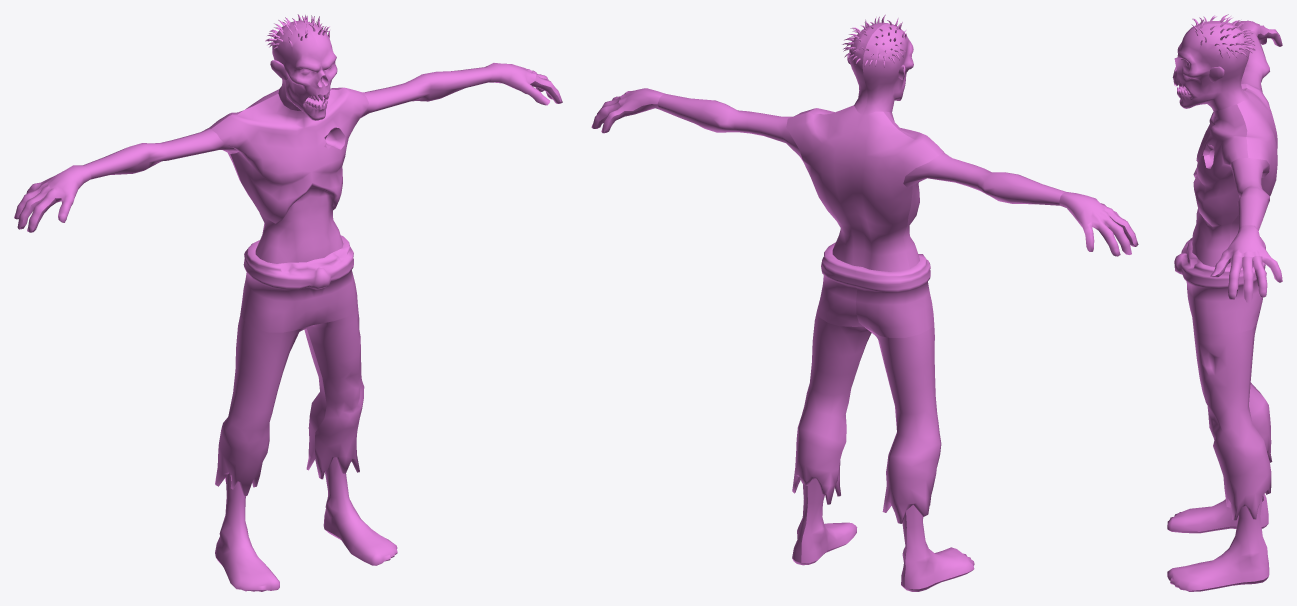
The model's file is SM_SZombie_Variant_1.fbx.
The picture shows the model from 3 angles, left to right: view 1: azimuth 30°, elevation 25°; view 2: azimuth 150°, elevation 25°; view 3: azimuth 270°, elevation 25°; orthographic projection.
Parts seen in each view (by area): view 1: SZombie_Variant_1; view 2: SZombie_Variant_1; view 3: SZombie_Variant_1.
Boxes of the visible parts, bbox=[...] form: SZombie_Variant_1: bbox=[14, 14, 562, 591]; SZombie_Variant_1: bbox=[591, 14, 1138, 591]; SZombie_Variant_1: bbox=[1167, 14, 1282, 591].
Size of the model in its own units: 188 by 181 by 35.37.
